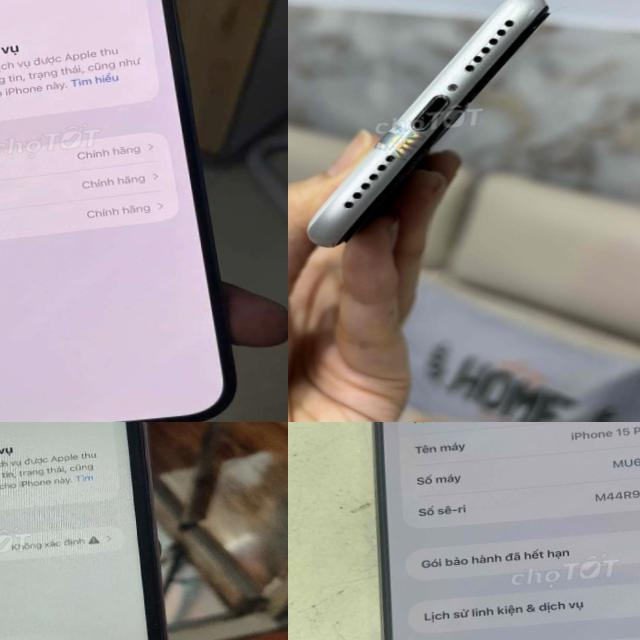gen_11: (0, 422, 194, 640)
gen_14: (0, 0, 262, 422)
gen_15: (339, 422, 640, 640)
gen_7_8: (288, 0, 583, 253)
scratch: (496, 0, 546, 20)
